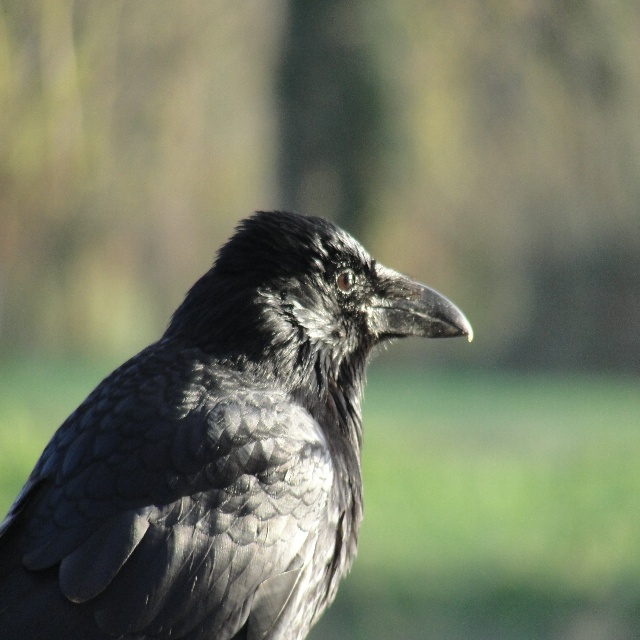Raven: (0, 212, 472, 639)
